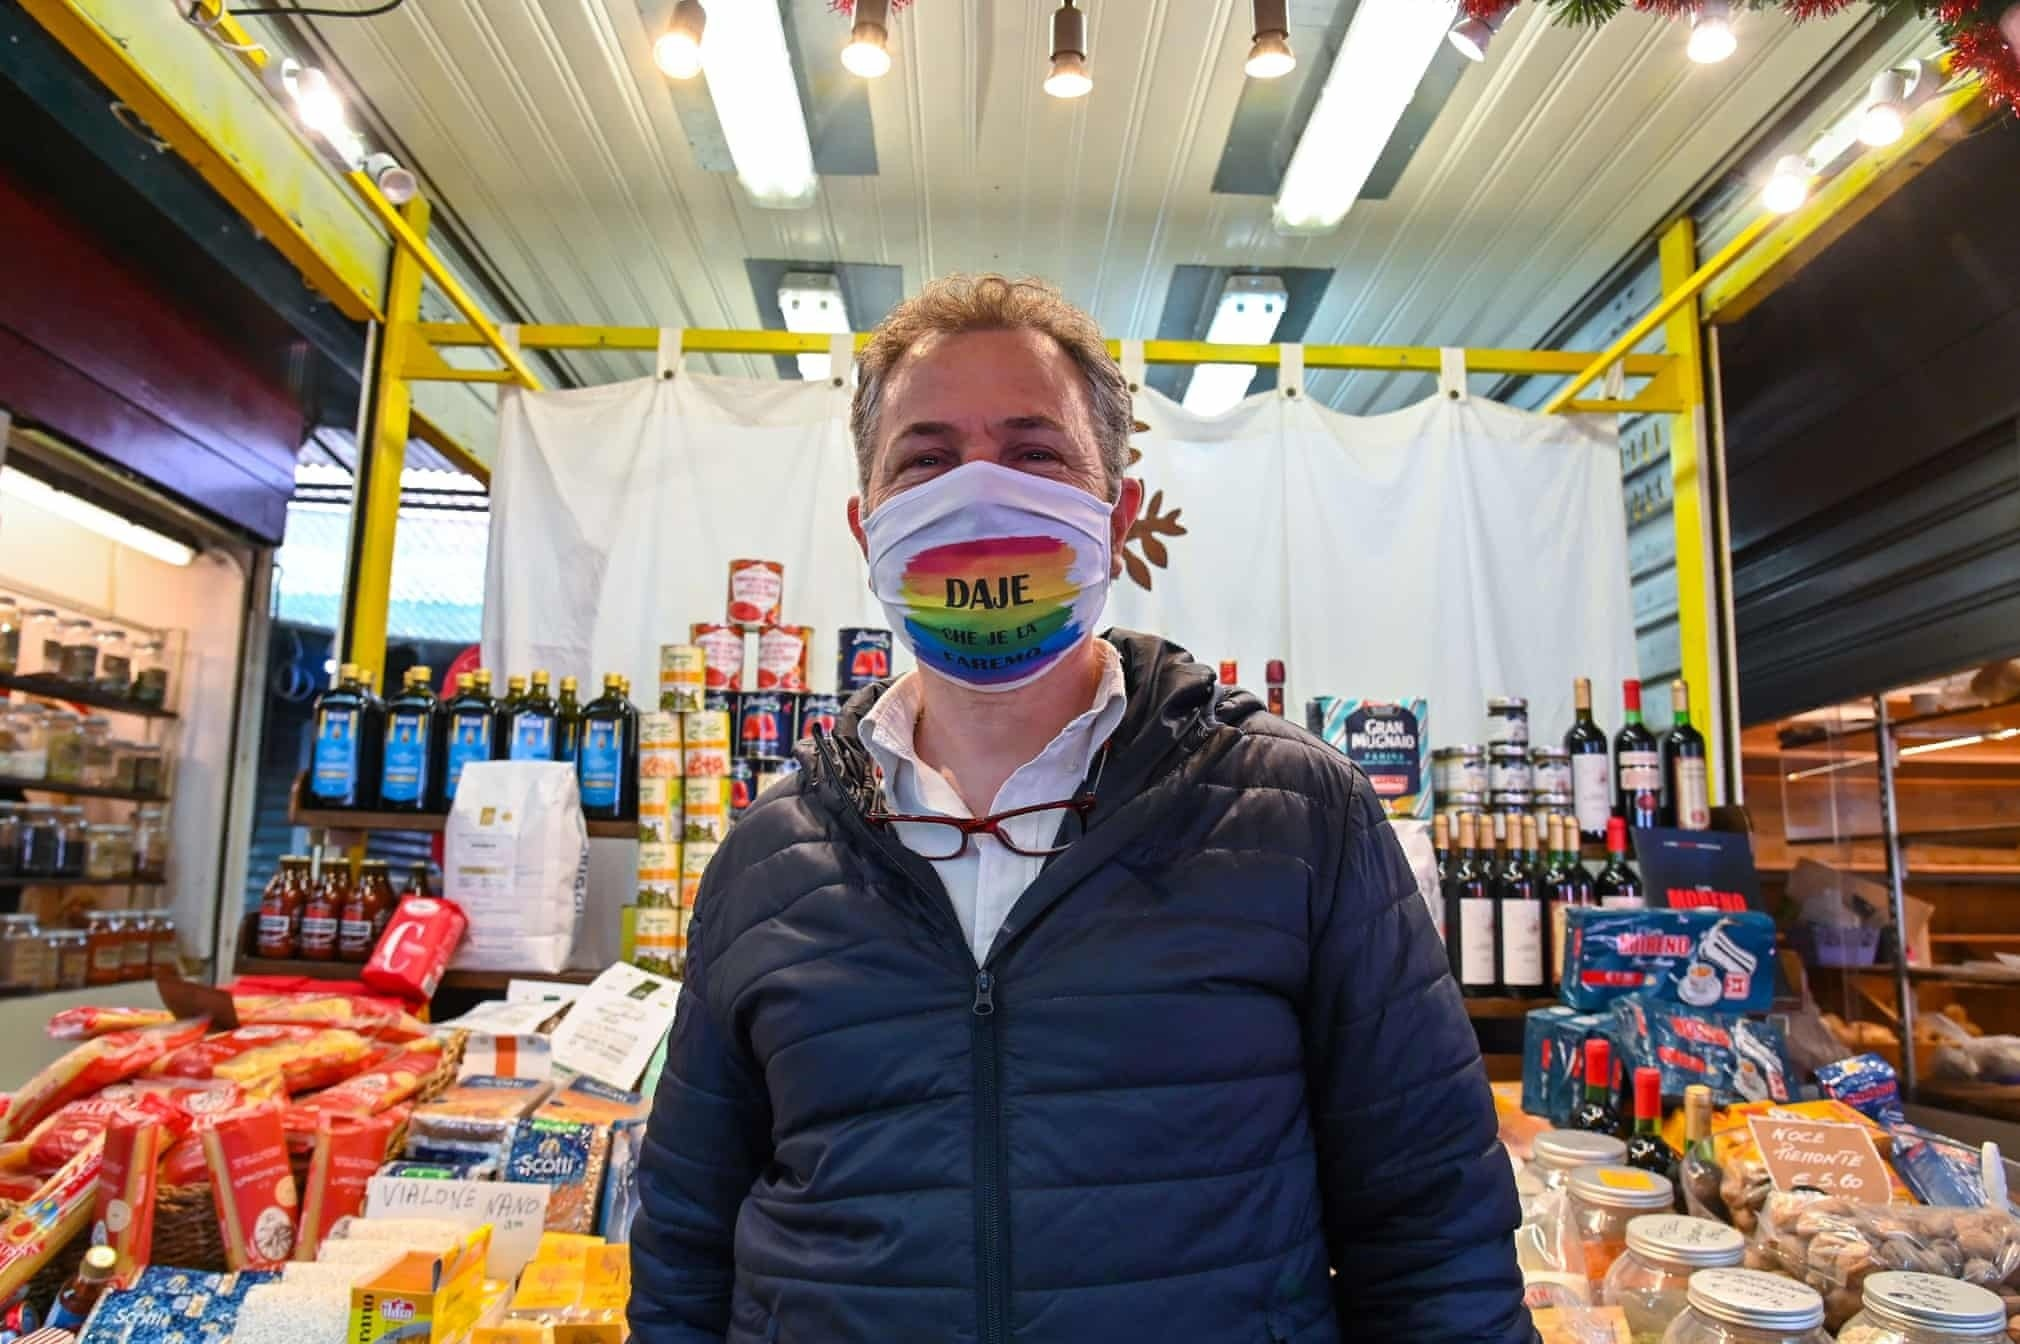face_with_mask: (846, 299, 1143, 695)
